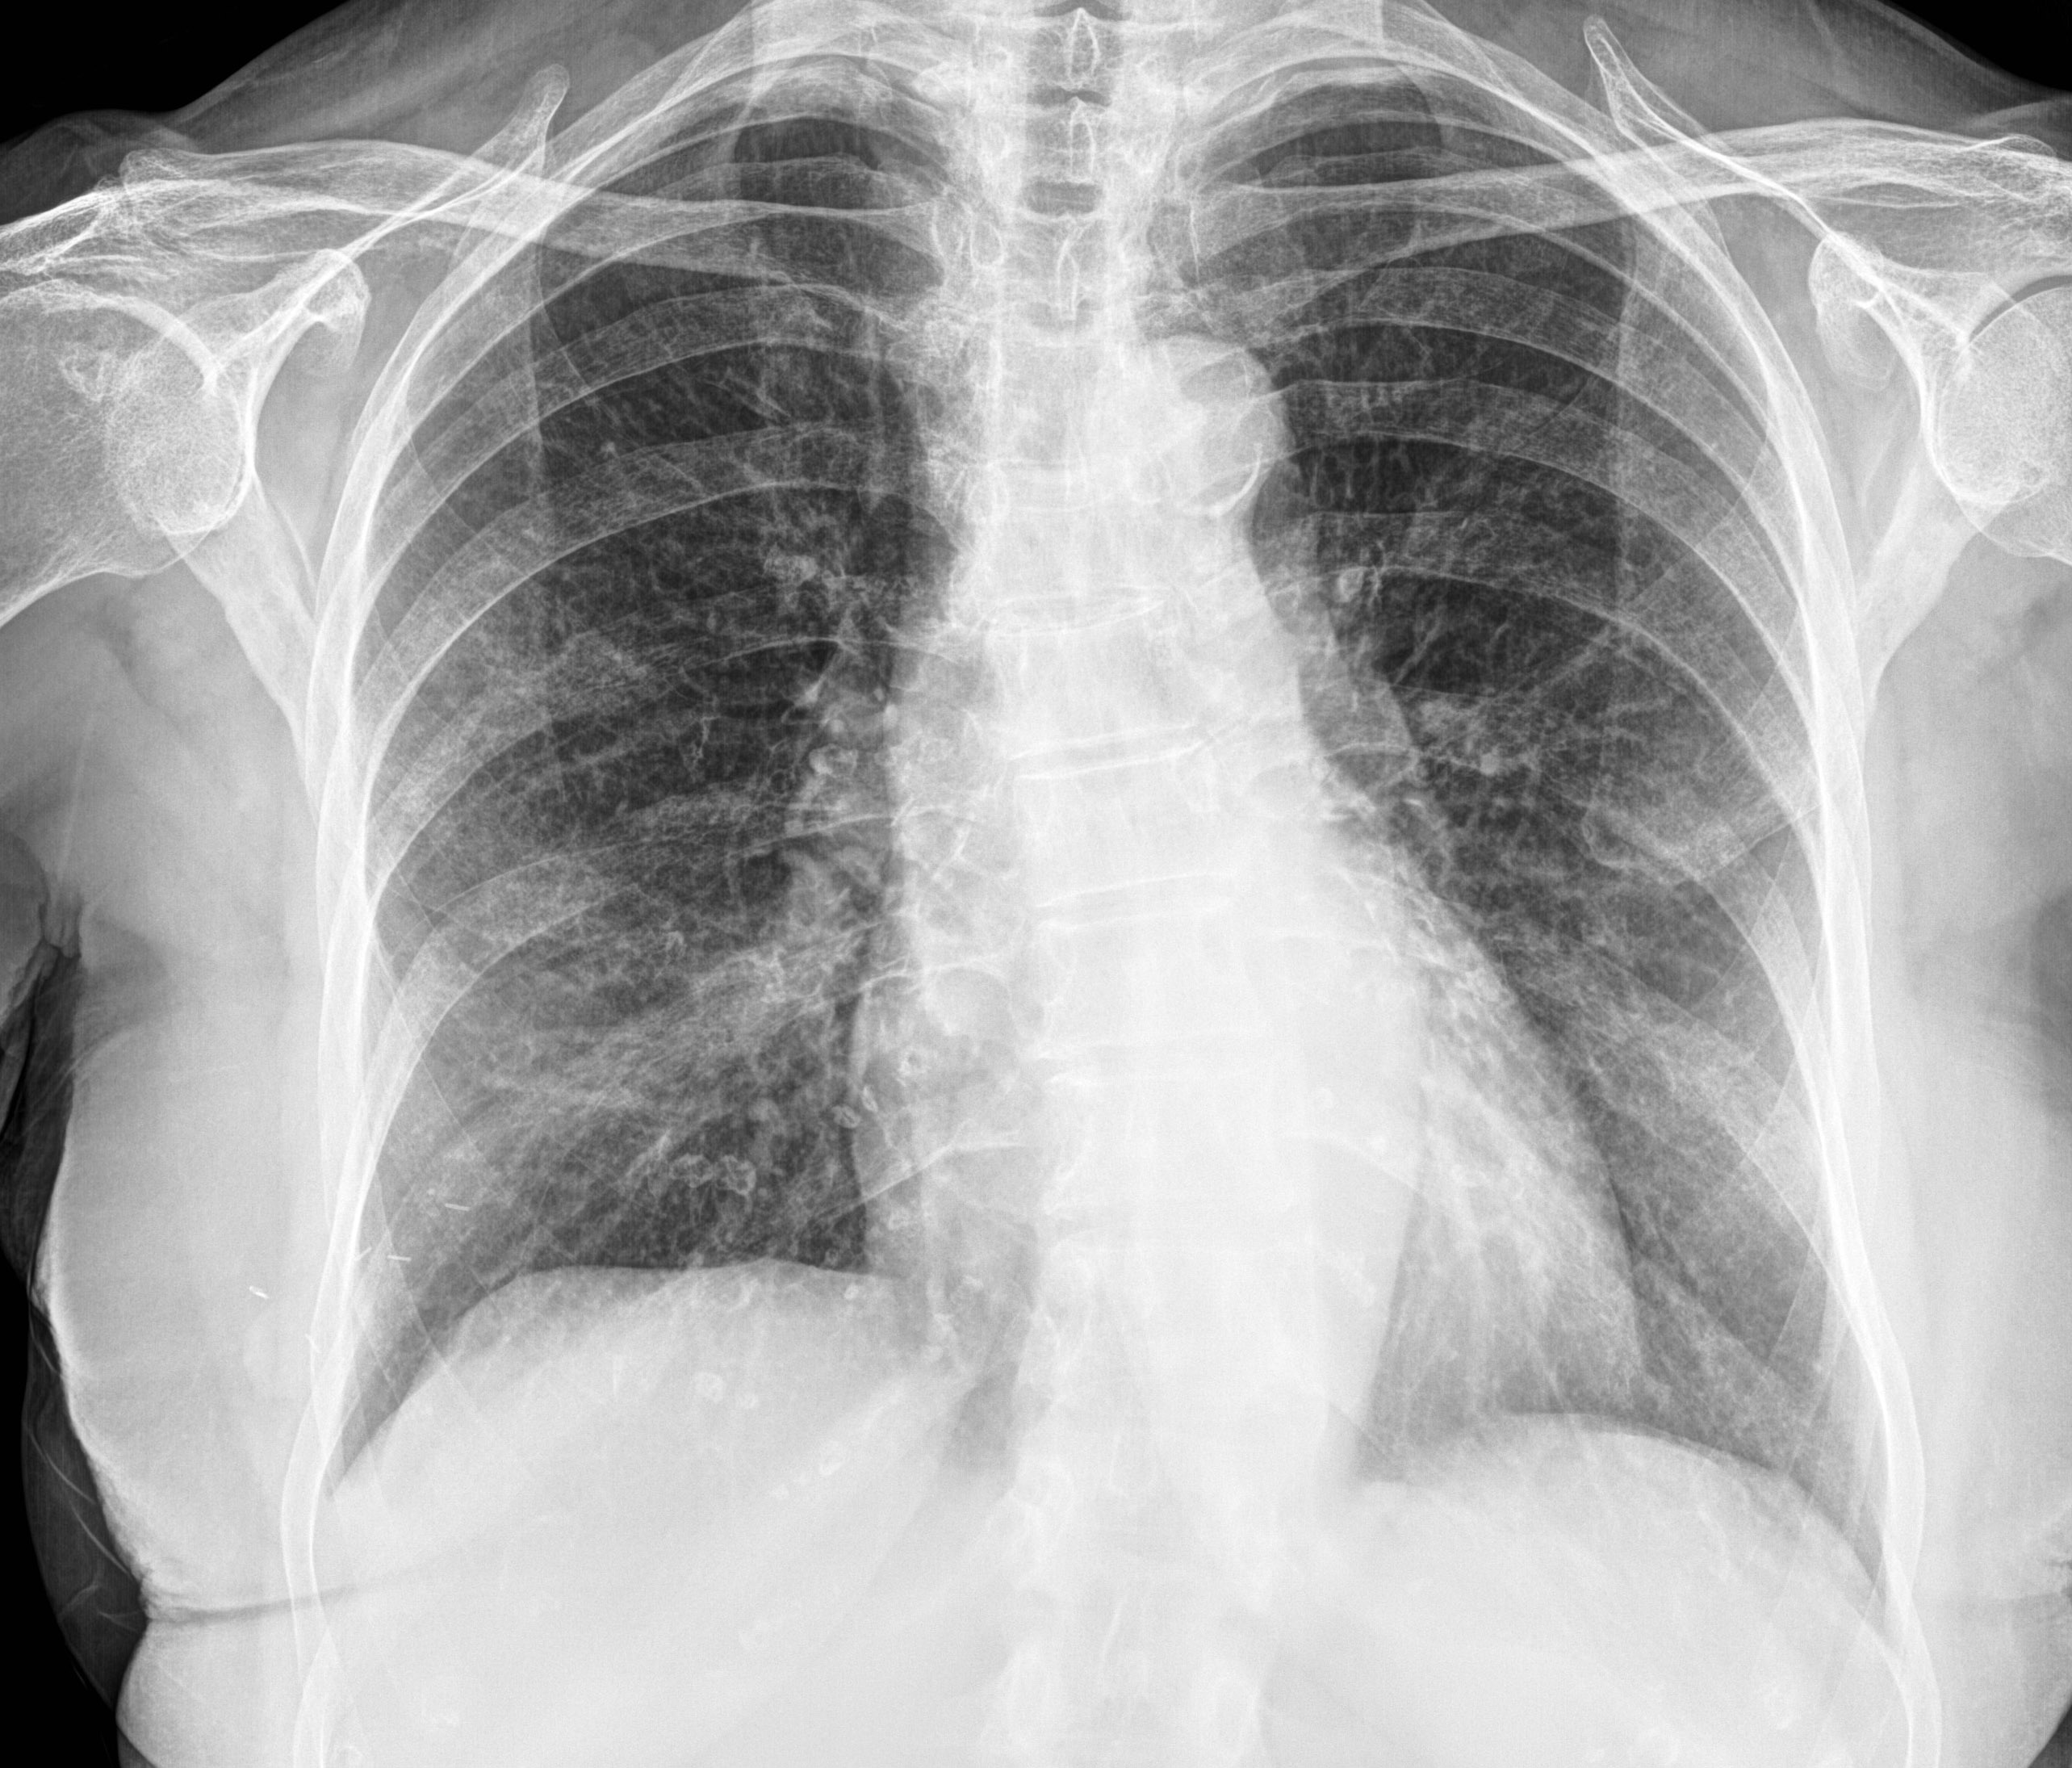Mildw: (1180, 89, 1897, 1582), (340, 74, 954, 1472)
